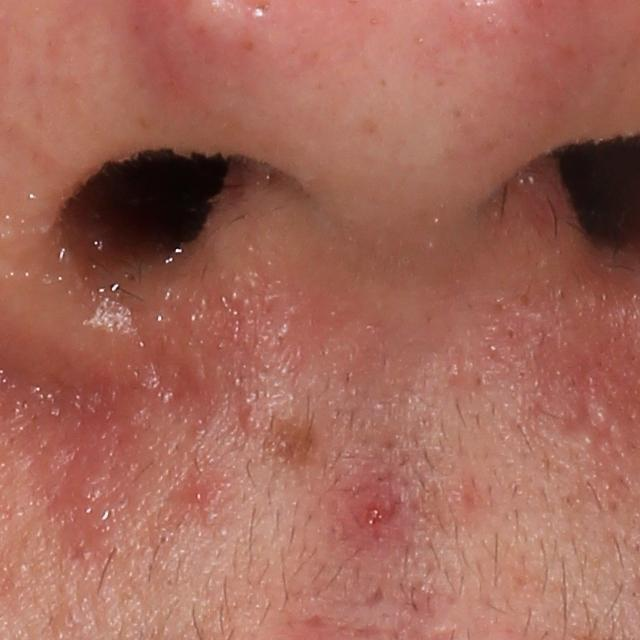atrophic_scar: (556, 371, 616, 465)
comedo: (151, 529, 176, 552)
